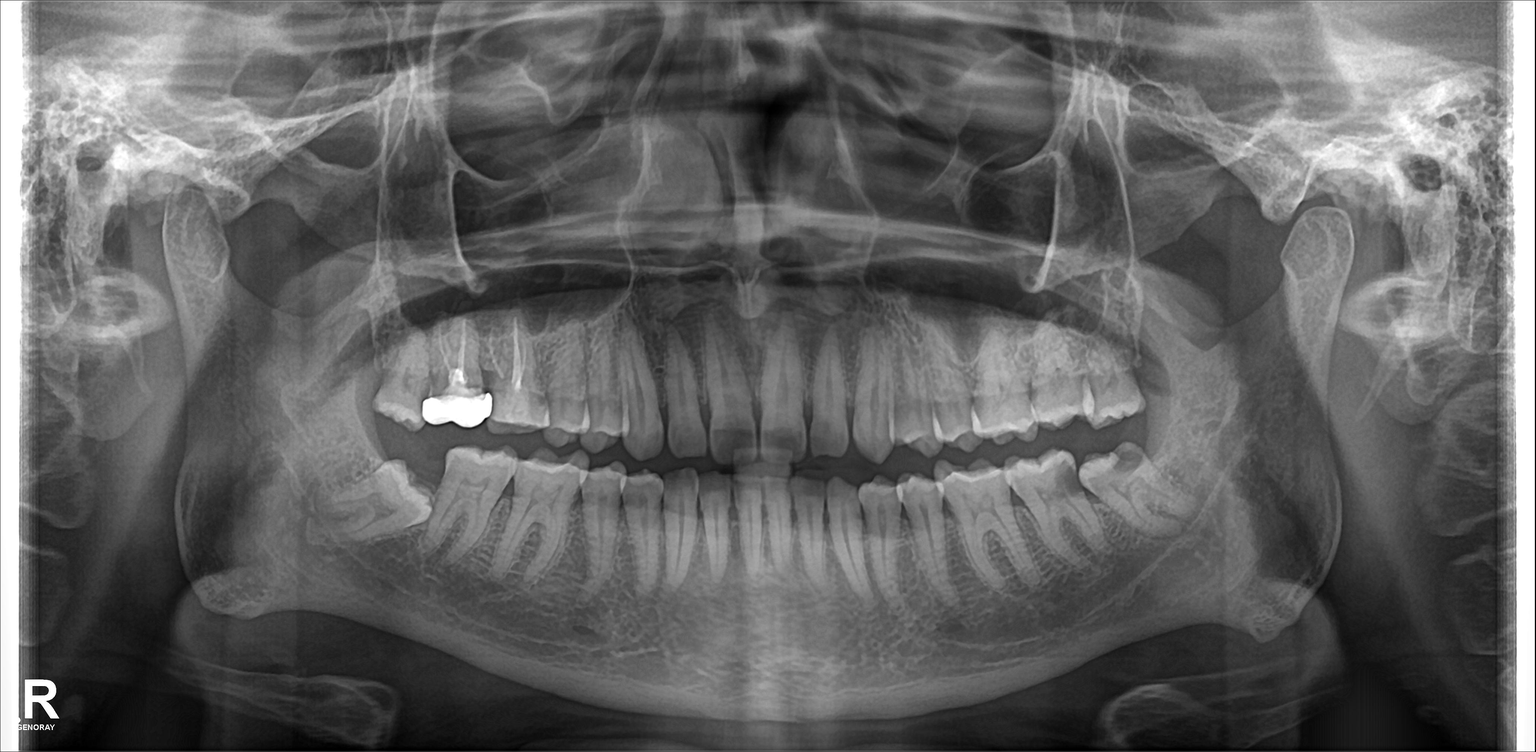Dental Caries: (1048, 462, 1083, 506), (1110, 441, 1146, 475)
Endodontically Treated Tooth: (425, 329, 490, 423), (499, 313, 547, 423)
Impacted Third Molar: (1093, 449, 1199, 524), (335, 473, 428, 535)
